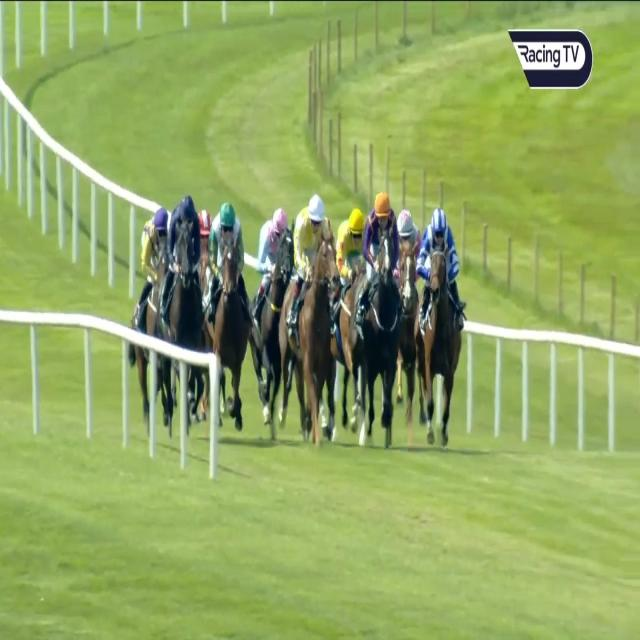horses-racing: (281, 191, 336, 451), (416, 201, 465, 438), (355, 189, 398, 450), (163, 192, 204, 430), (252, 190, 291, 414), (392, 202, 423, 423), (136, 206, 168, 361), (334, 204, 368, 308), (194, 194, 225, 305)
